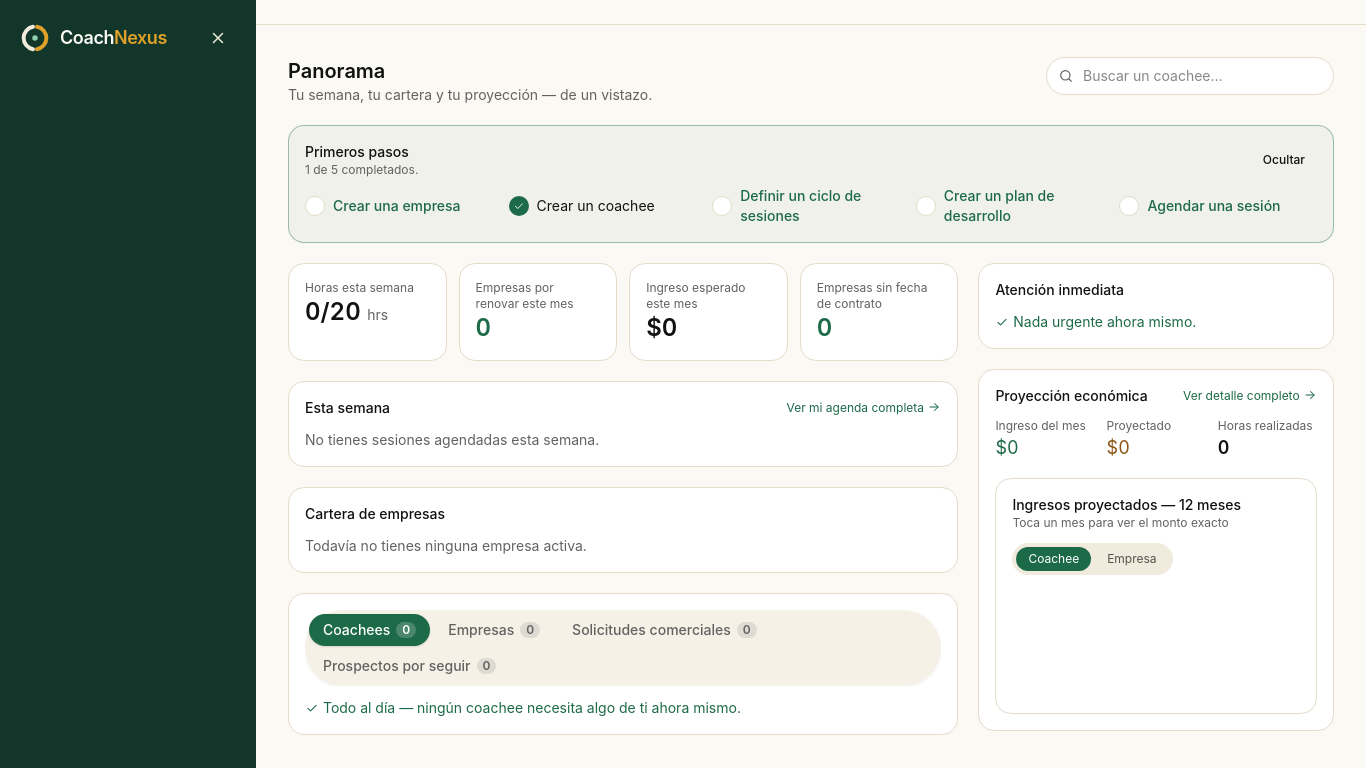
Test case: DashboardView › muestra Primeros pasos según los datos reales y se puede ocultar
The width and height of the screenshot is (1366, 768).
What coordinates should you click on to do the following:
click the button "Ocultar"
I would click on:
 (1284, 160)
Its box is [1251,142,1317,178].
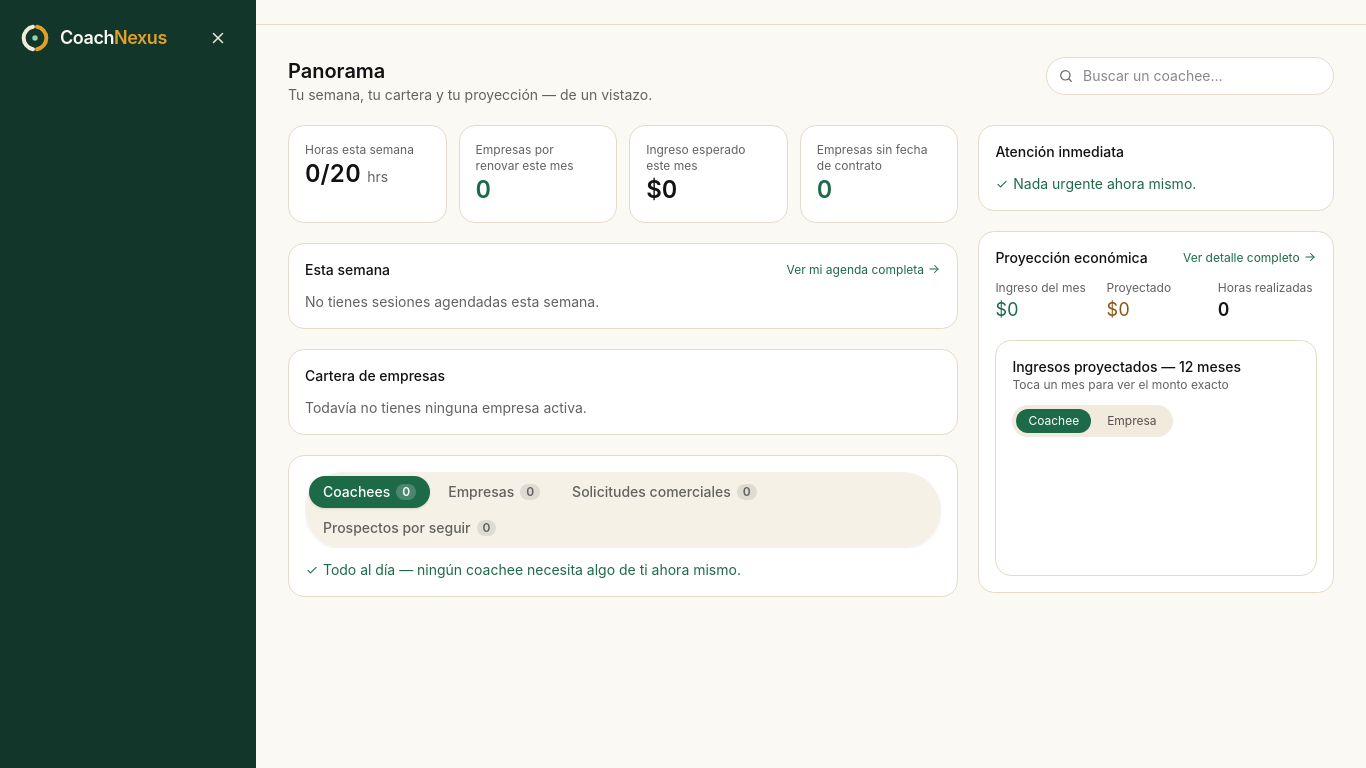
Expected: the text "Primeros pasos" is gone
